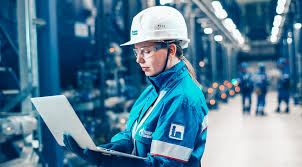Person_wearing_helmet: (113, 6, 193, 54)
